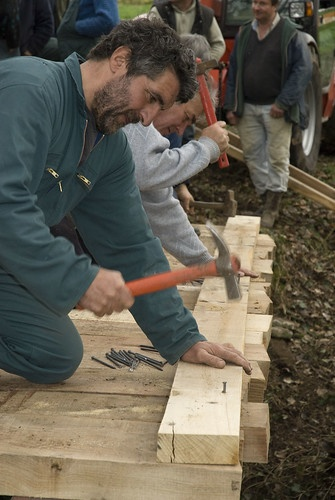hammer: (71, 221, 245, 315), (182, 54, 243, 169)
